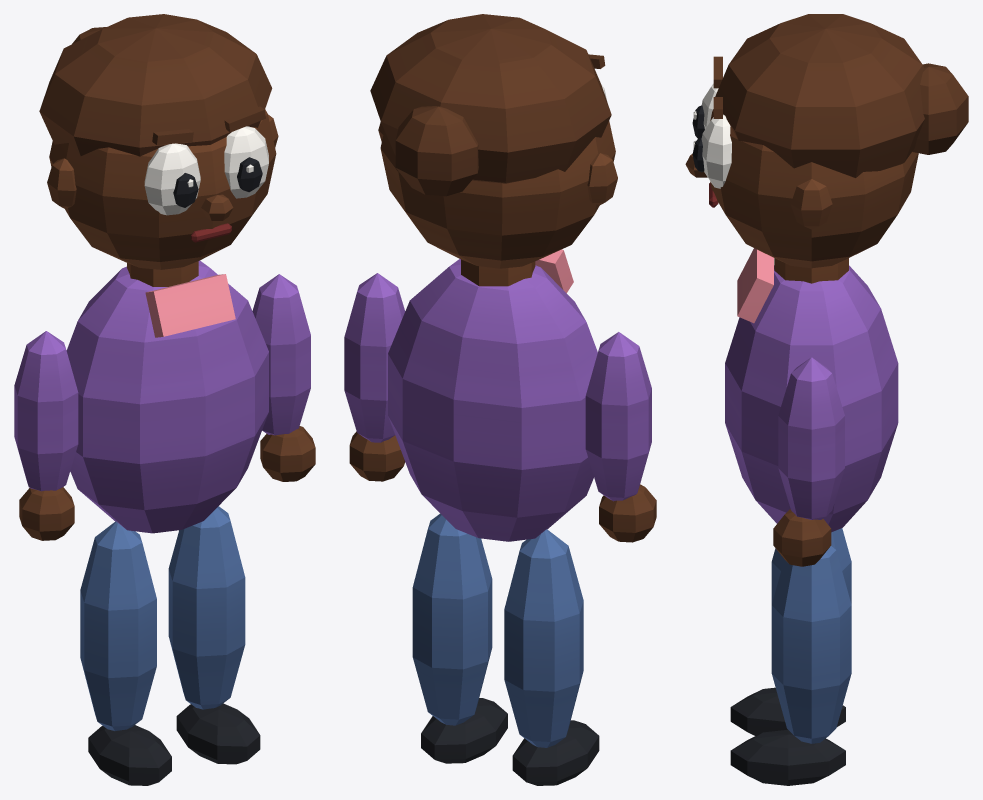
File: Passageiro_4.fbx
3 renders of one model, left to right at view 1: azimuth 30°, elevation 25°; view 2: azimuth 150°, elevation 25°; view 3: azimuth 270°, elevation 25°, orthographic. The views are drawn at different scales.
Visible parts, largest first — view 1: Cabeca, Corpo, Perna_D, Perna_E, Braco_D, Braco_E; view 2: Cabeca, Corpo, Perna_D, Perna_E, Braco_D, Braco_E; view 3: Cabeca, Corpo, Perna_E, Braco_E, Perna_D.
Part boxes in pixels (x1,y1,x2,y2): Cabeca: (39, 14, 278, 269); Corpo: (66, 260, 268, 533); Perna_D: (80, 521, 171, 785); Perna_E: (168, 506, 260, 764); Braco_D: (14, 331, 78, 540); Braco_E: (252, 274, 315, 481); Cabeca: (370, 14, 617, 268); Corpo: (388, 249, 597, 541); Perna_D: (504, 529, 599, 785); Perna_E: (412, 513, 507, 763); Braco_D: (585, 332, 656, 542); Braco_E: (344, 273, 405, 481); Cabeca: (685, 14, 968, 268); Corpo: (725, 248, 898, 532); Perna_E: (730, 545, 851, 785); Braco_E: (773, 357, 844, 566); Perna_D: (730, 528, 851, 735).
Size of the model in its own units: 0.7236 by 1.72 by 0.6056.
